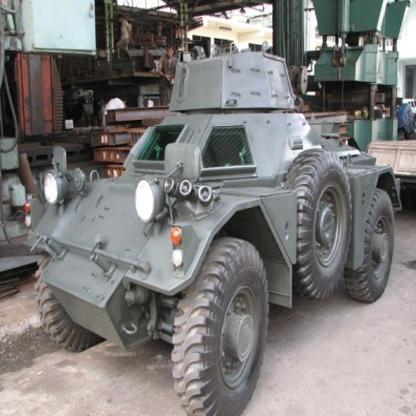Tank: (33, 18, 412, 416)
